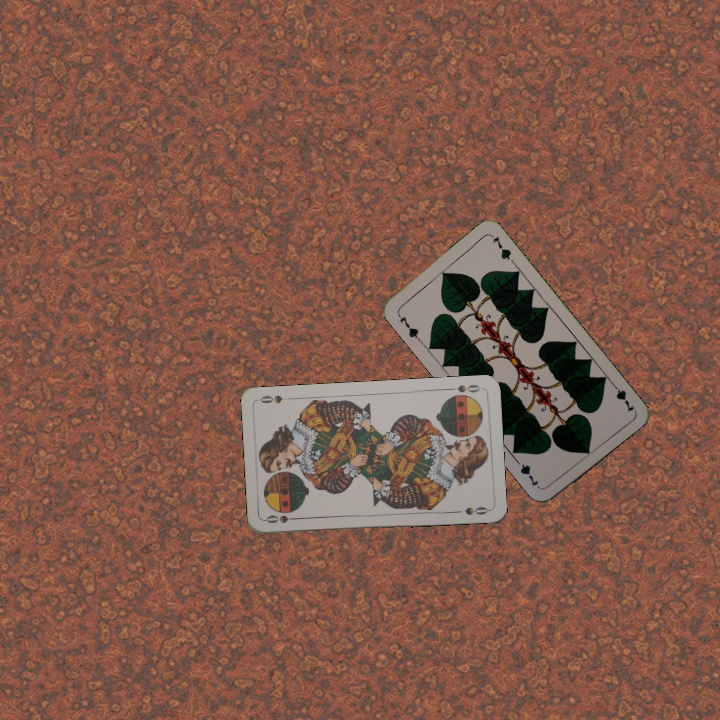G7: (607, 378, 637, 415), (393, 308, 423, 343)
SO: (262, 511, 302, 525), (444, 381, 482, 395)
